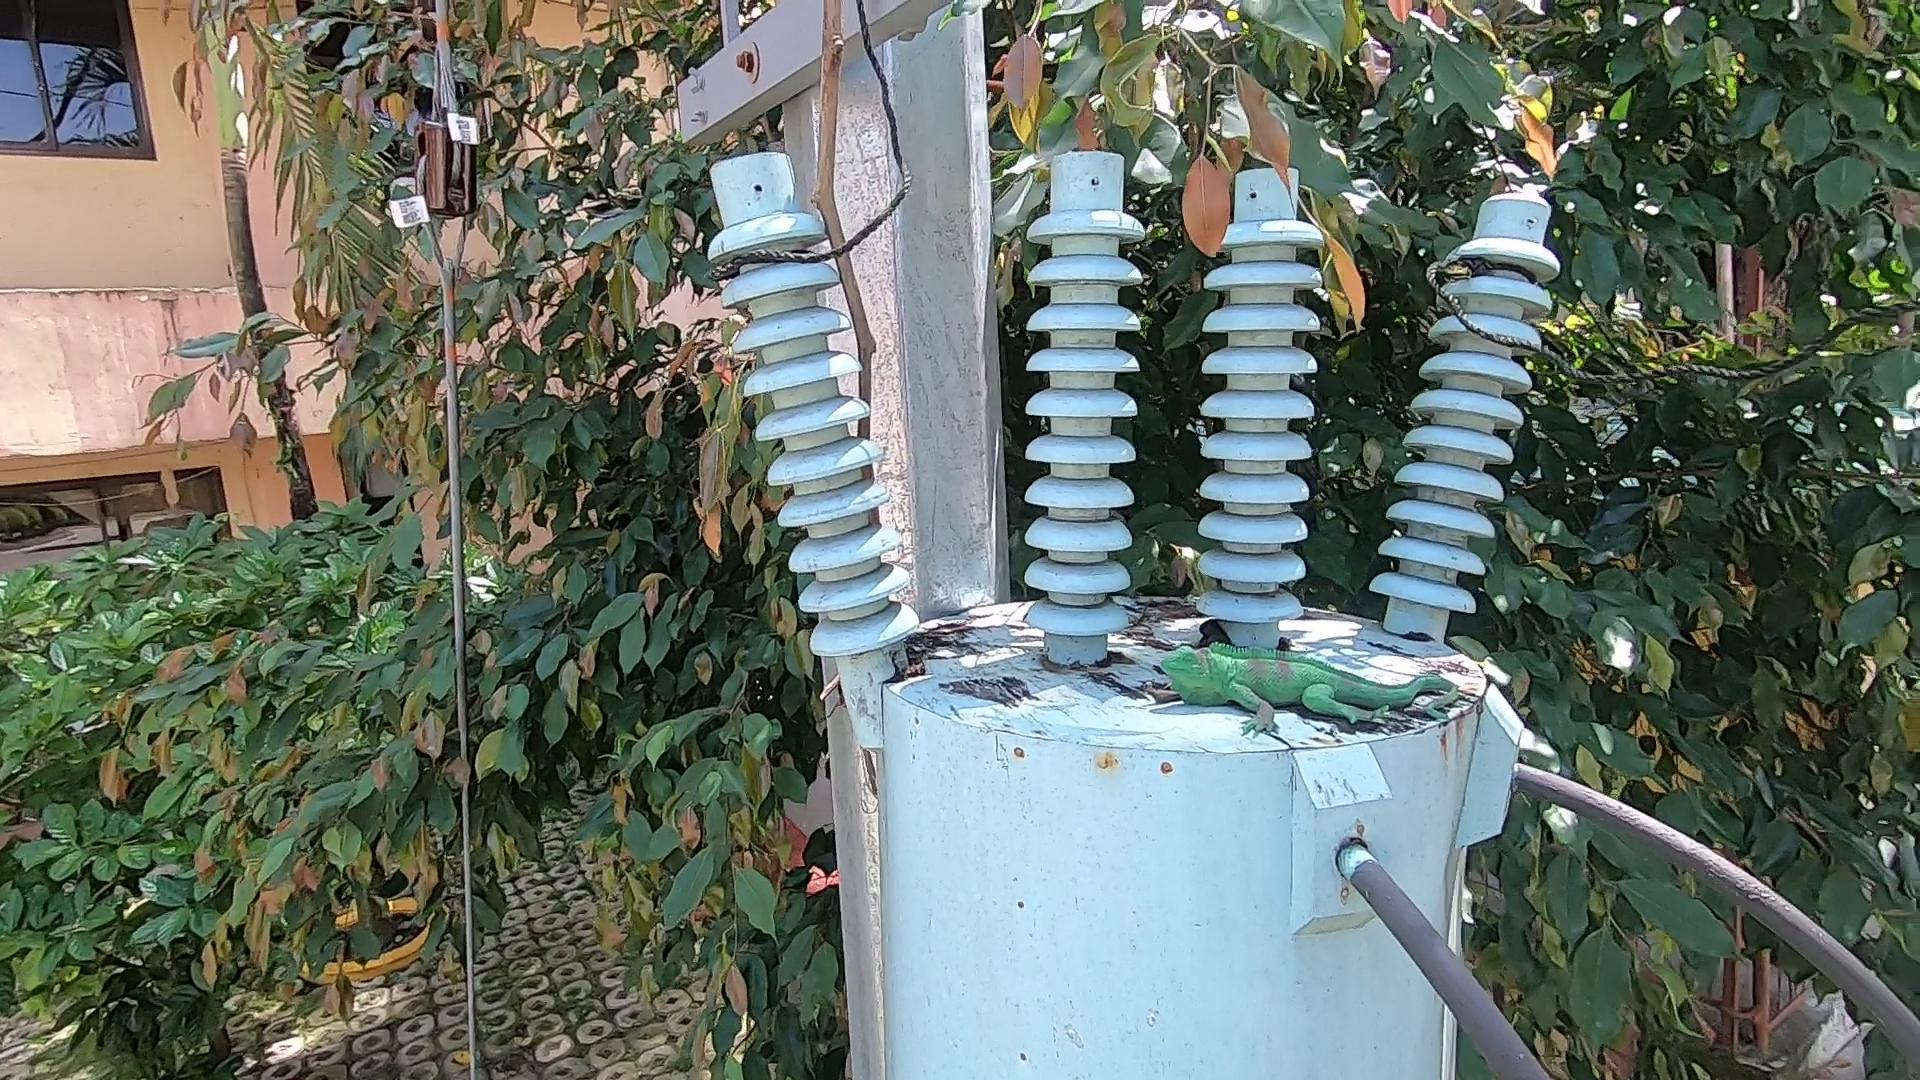branch with leaves: (1145, 96, 1406, 355)
leaf: (1139, 593, 1188, 641), (1195, 618, 1245, 659), (886, 651, 931, 684)
tree branch: (760, 3, 910, 808)
